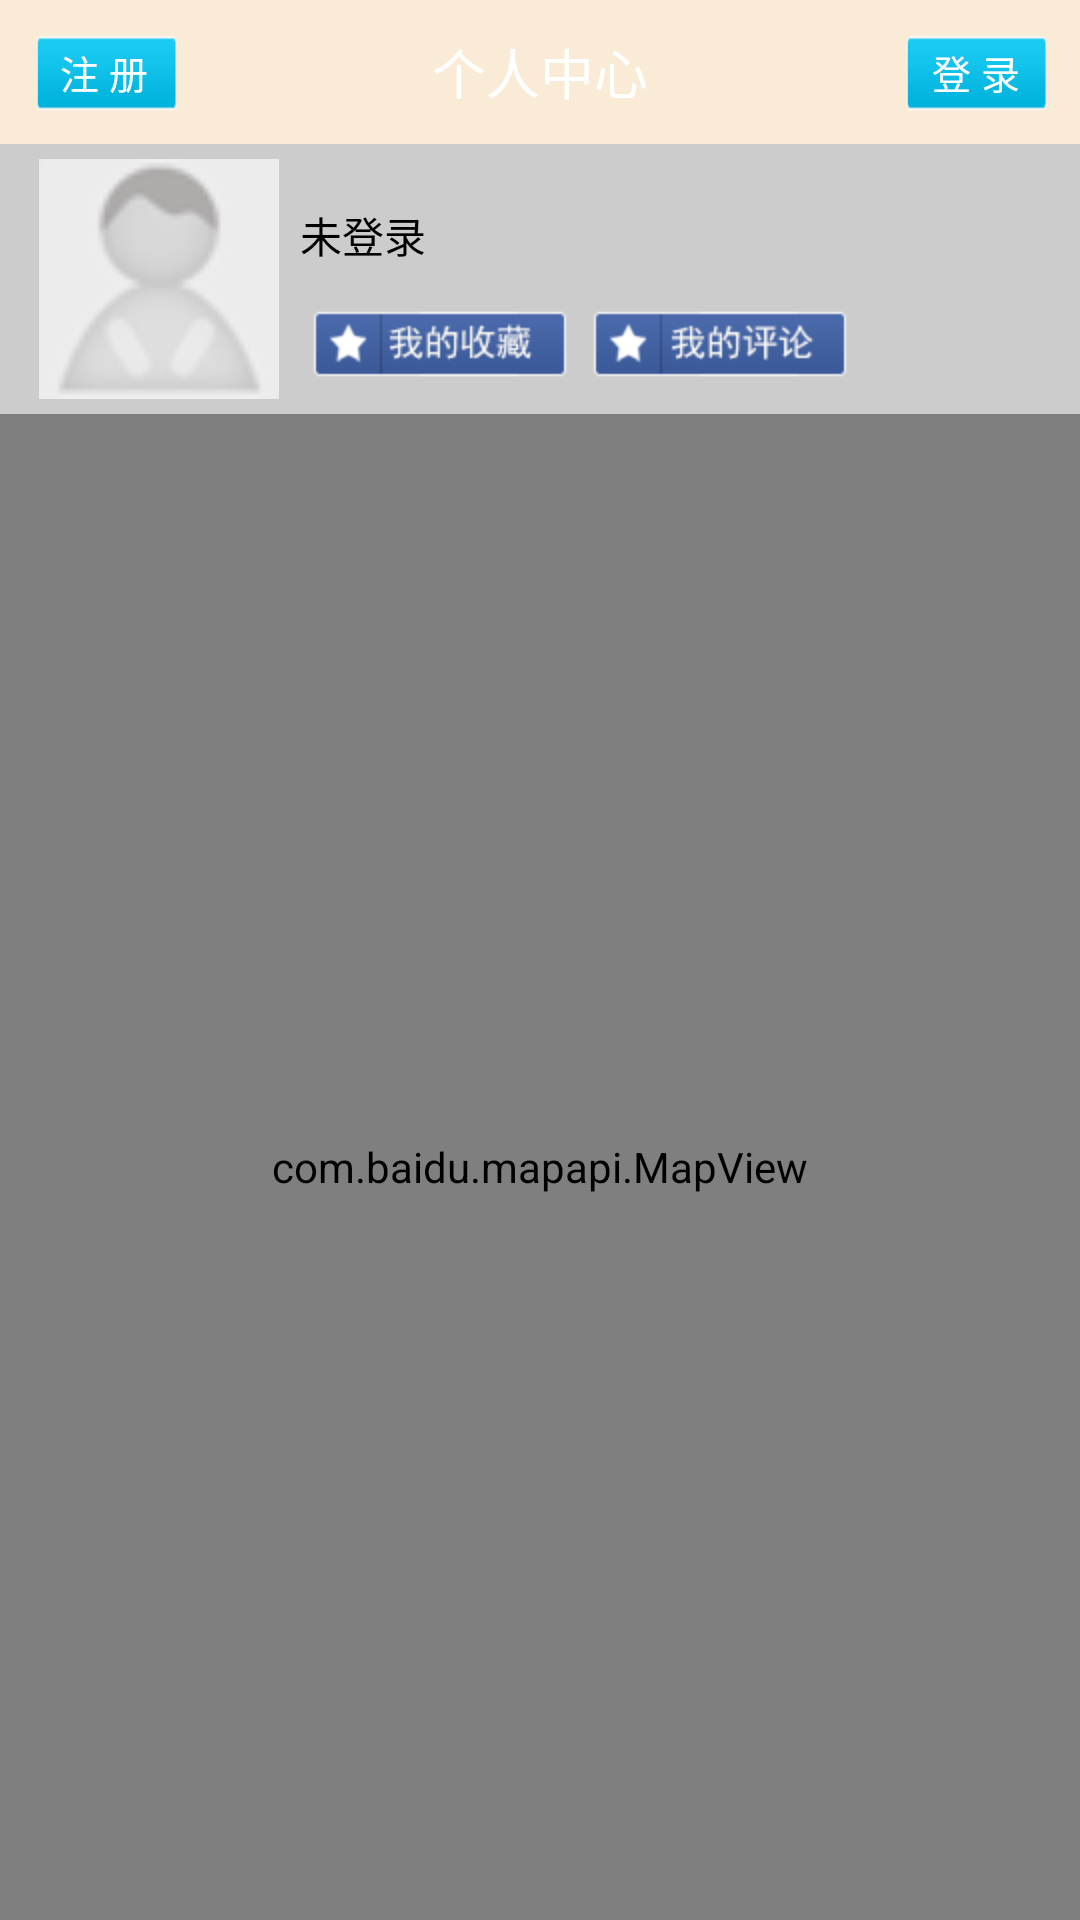

Icon click points for this 1080×1920 phone screenshot, format point (x, y):
user wde: point (159, 279)
